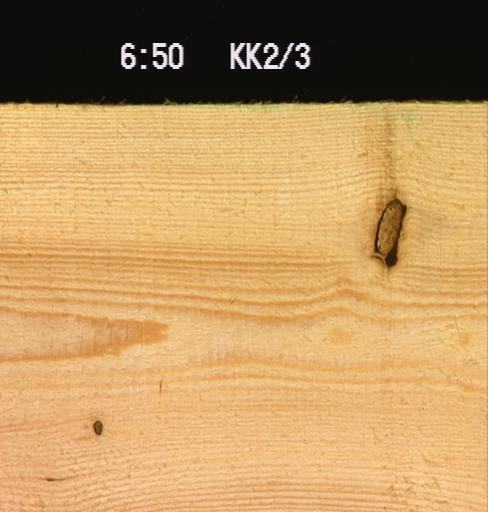dry_knot: (92, 417, 103, 436)
